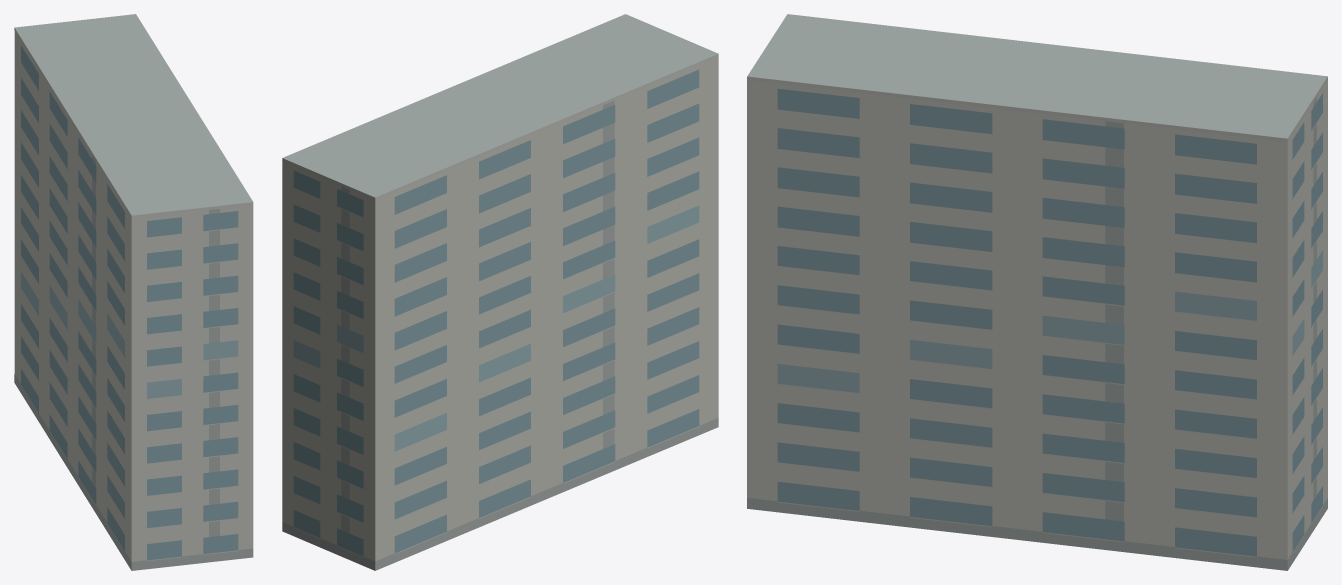
File: residential-9409a59b-afd3-41c0-88a0-a3cdd1b0d6ab.glb
The picture shows the model from 3 angles, left to right: view 1: azimuth 30°, elevation 25°; view 2: azimuth 150°, elevation 25°; view 3: azimuth 270°, elevation 25°; orthographic projection. The views are drawn at different scales.
Parts seen in each view (by area): view 1: residential-9409a59b-afd3-41c0-88a0-a3cdd1b0d6ab.tmp; view 2: residential-9409a59b-afd3-41c0-88a0-a3cdd1b0d6ab.tmp; view 3: residential-9409a59b-afd3-41c0-88a0-a3cdd1b0d6ab.tmp.
Part boxes in pixels (x1,y1,x2,y2): residential-9409a59b-afd3-41c0-88a0-a3cdd1b0d6ab.tmp: (14,14,253,570); residential-9409a59b-afd3-41c0-88a0-a3cdd1b0d6ab.tmp: (282,14,718,570); residential-9409a59b-afd3-41c0-88a0-a3cdd1b0d6ab.tmp: (747,14,1327,570).
Bounding box in the file's own units: 18.56 × 30 × 36.54.
